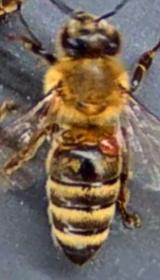varroa_mite: (95, 131, 122, 160)
